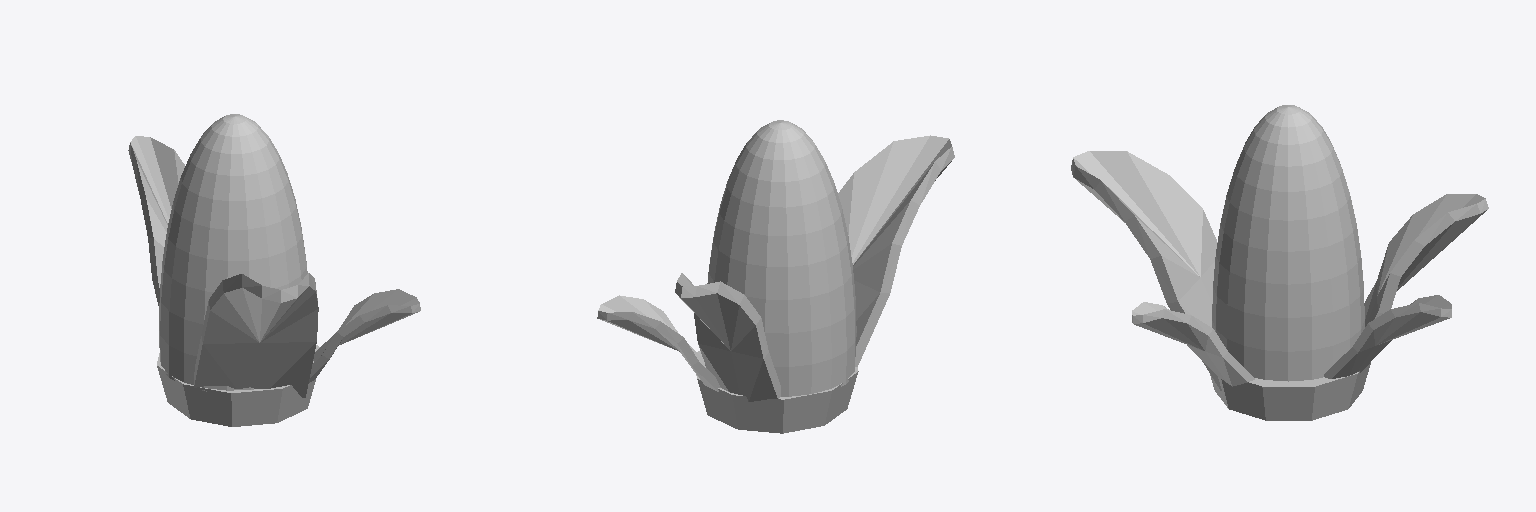
File: CornPickup.obj
3 renders of one model, left to right at view 1: azimuth 30°, elevation 25°; view 2: azimuth 150°, elevation 25°; view 3: azimuth 270°, elevation 25°, orthographic.
Visible parts, largest first — view 1: pCylinder51; view 2: pCylinder51; view 3: pCylinder51.
Part boxes in pixels (left/top/right/bottom): pCylinder51: left=128, top=114, right=420, bottom=426; pCylinder51: left=597, top=120, right=954, bottom=433; pCylinder51: left=1071, top=105, right=1488, bottom=420.
Size of the model in its own units: 1.84 by 2.65 by 3.57.